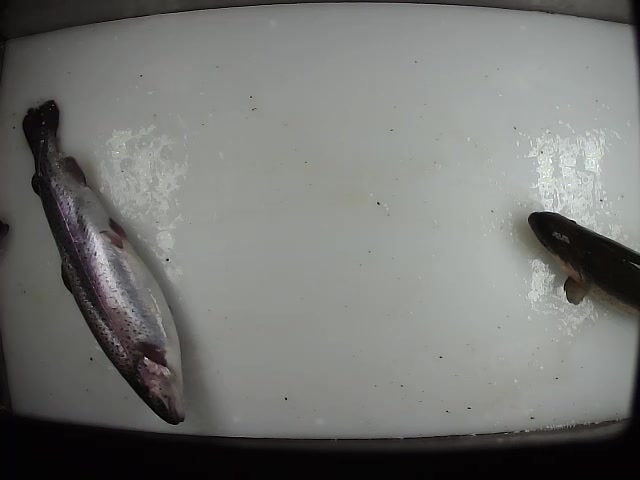fish: (20, 98, 187, 427), (527, 209, 640, 322)
